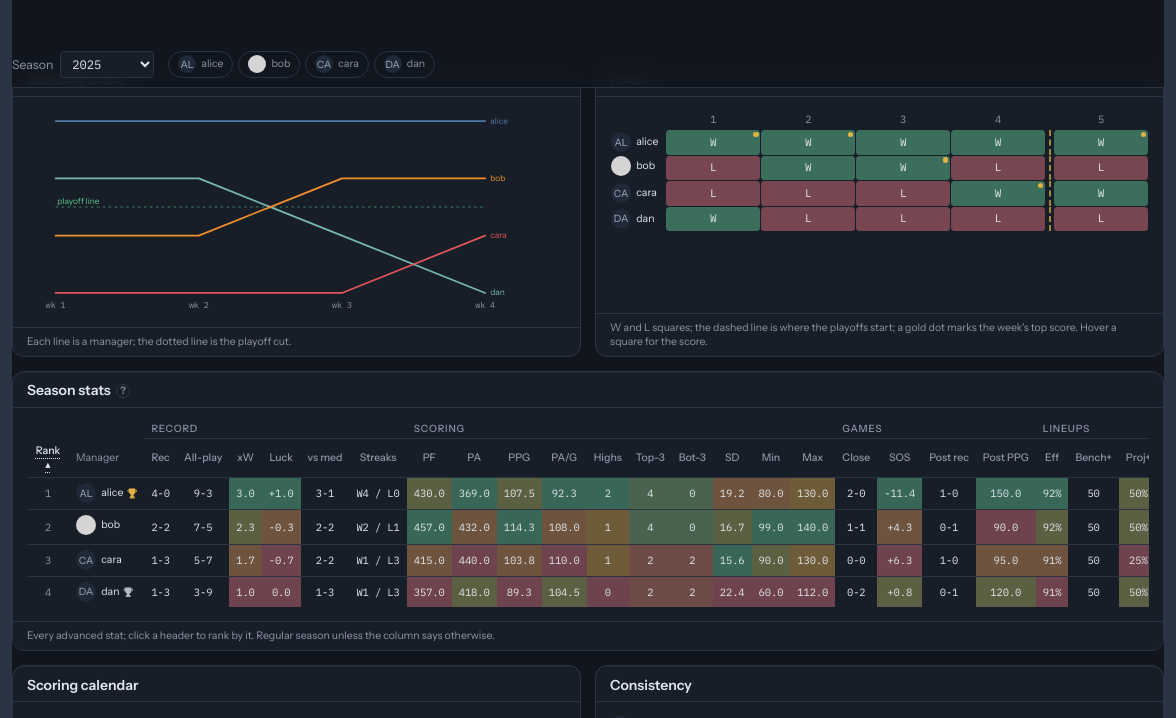
it: ManagersStats › switches to all-time: the week-by-week cards give way to a note, the rest aggregate, the table gains a seasons column
Select "All-time" in the dropdown at (107, 64), box [60, 51, 154, 78]
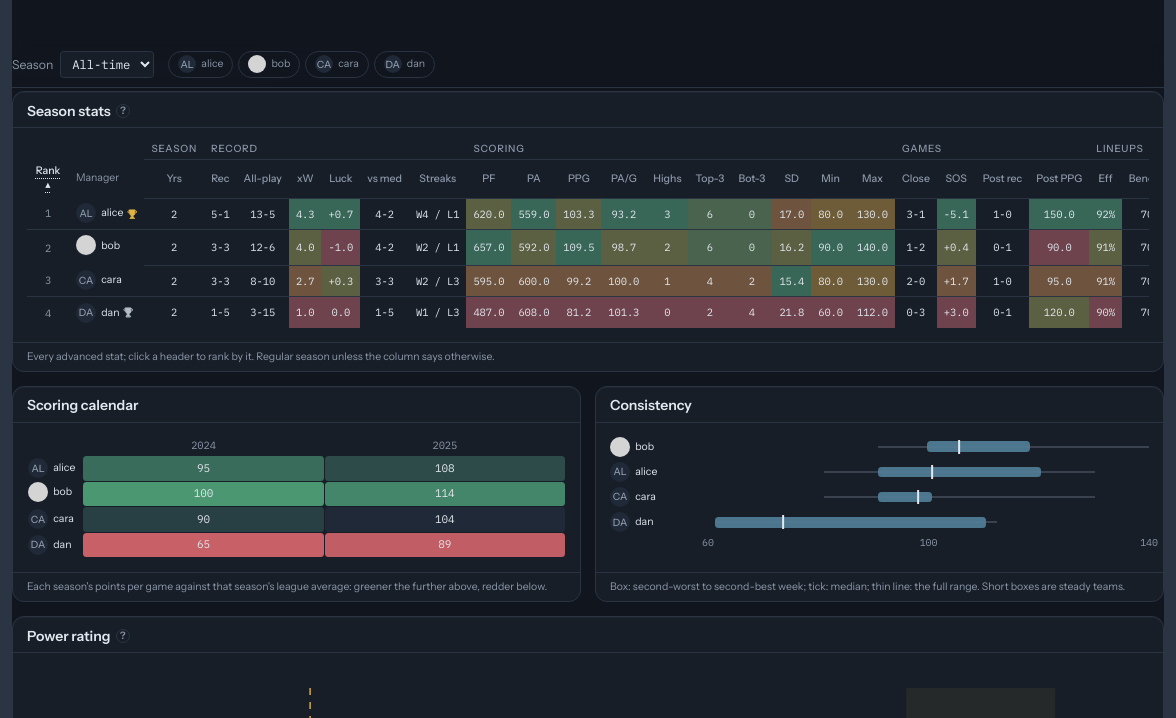
expect the heading "Form" is not shown: met
expect the text "Pick a season for the week-by-week charts." is shown: met, box [12, 60, 253, 76]
expect the column heading "Yrs" is shown: met, box [144, 159, 204, 198]
